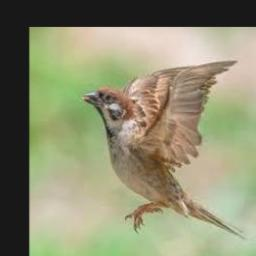Sparrow: (80, 60, 247, 238)
